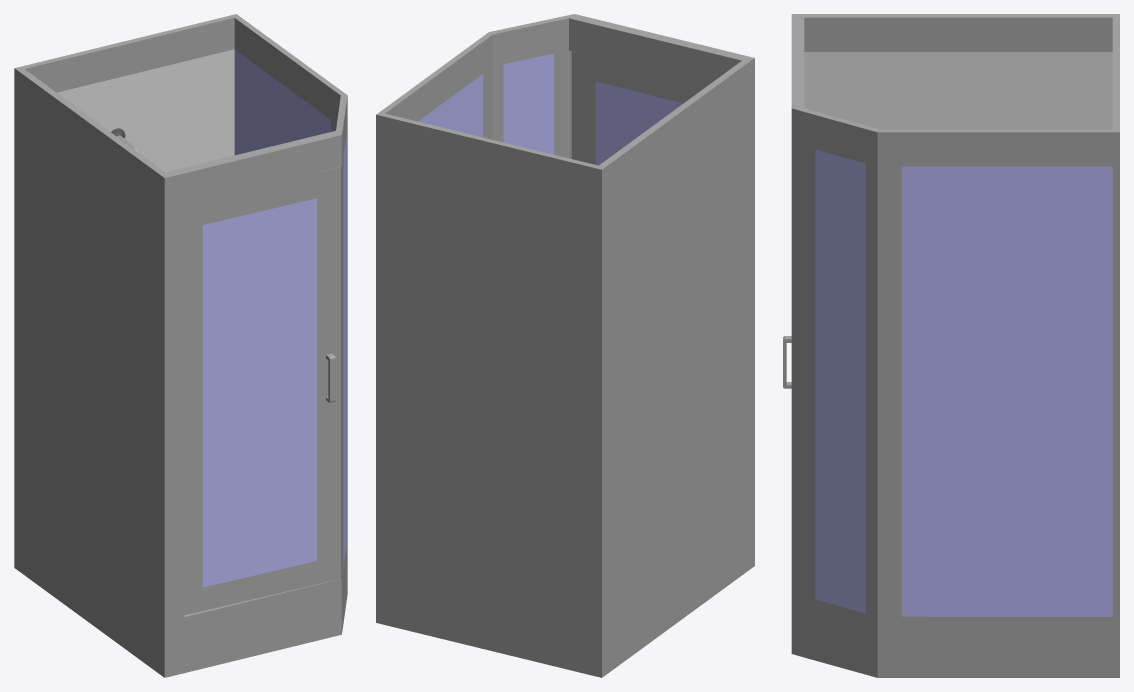
The model's file is bath_shower.glb.
3 views of the same model, side by side, from view 1: azimuth 30°, elevation 25°; view 2: azimuth 150°, elevation 25°; view 3: azimuth 270°, elevation 25° (orthographic). The views are drawn at different scales.
Parts seen in each view (by area): view 1: Shower_stall_ED_Cube.096, Shower_stall_door_ED_Cube.097, Tiles_Cube.002; view 2: Shower_stall_ED_Cube.096, Shower_stall_door_ED_Cube.097; view 3: Shower_stall_ED_Cube.096, Tiles_Cube.002.
Boxes of the visible parts, <box> form: Shower_stall_ED_Cube.096: <box>14,14,347,677</box>; Shower_stall_door_ED_Cube.097: <box>184,167,341,615</box>; Tiles_Cube.002: <box>57,49,234,172</box>; Shower_stall_ED_Cube.096: <box>376,14,754,677</box>; Shower_stall_door_ED_Cube.097: <box>571,51,708,165</box>; Shower_stall_ED_Cube.096: <box>791,14,1119,677</box>; Tiles_Cube.002: <box>804,52,1112,129</box>.
Size of the model in its own units: 0.9306 by 2 by 1.12.
